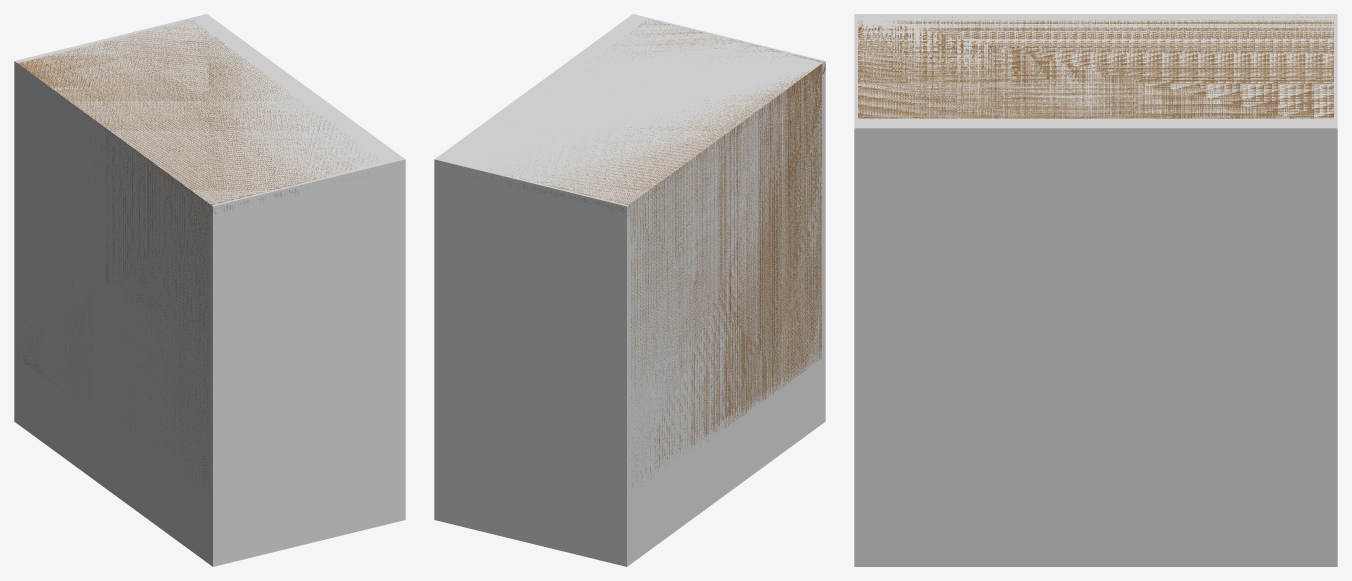
File: UpLu_Small_Cabinet.gltf
The picture shows the model from 3 angles, left to right: view 1: azimuth 30°, elevation 25°; view 2: azimuth 150°, elevation 25°; view 3: azimuth 270°, elevation 25°; orthographic projection. The views are drawn at different scales.
Parts seen in each view (by area): view 1: UpLu_Small_Cabinet_bcol, UpLu_Small_Cabinet_mesh; view 2: UpLu_Small_Cabinet_bcol, UpLu_Small_Cabinet_mesh; view 3: UpLu_Small_Cabinet_bcol, UpLu_Small_Cabinet_mesh.
Part boxes in pixels (x1,y1,x2,y2): UpLu_Small_Cabinet_bcol: [14, 14, 405, 566]; UpLu_Small_Cabinet_mesh: [18, 20, 379, 487]; UpLu_Small_Cabinet_bcol: [434, 14, 825, 566]; UpLu_Small_Cabinet_mesh: [490, 19, 825, 485]; UpLu_Small_Cabinet_bcol: [854, 14, 1337, 566]; UpLu_Small_Cabinet_mesh: [858, 17, 1333, 118].
Size of the model in its own units: 0.6013 by 1.08 by 1.07.
Materials: 2 (1 with a texture image).
